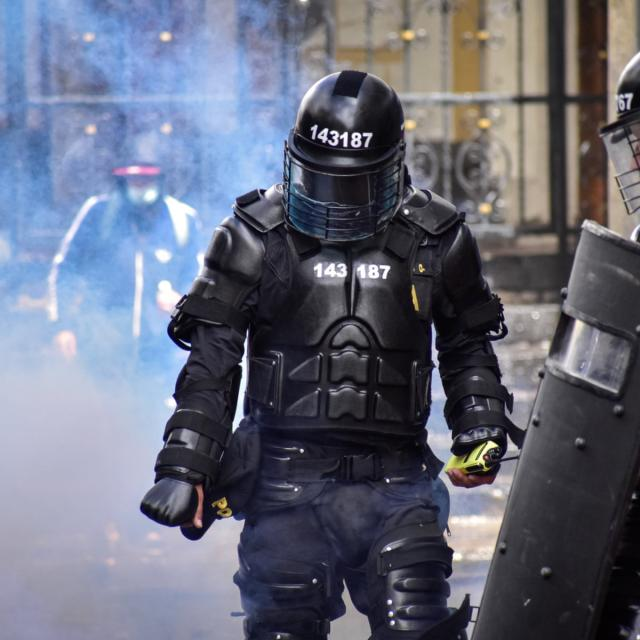police: (137, 41, 507, 640)
